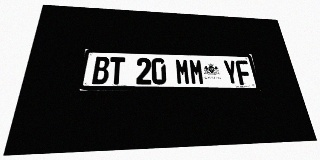0: (151, 58, 166, 85)
2: (136, 58, 151, 84)
B: (92, 56, 110, 84)
F: (235, 60, 252, 85)
M: (175, 59, 191, 85), (189, 59, 205, 85)
T: (108, 57, 125, 84)
Y: (222, 60, 239, 85)
